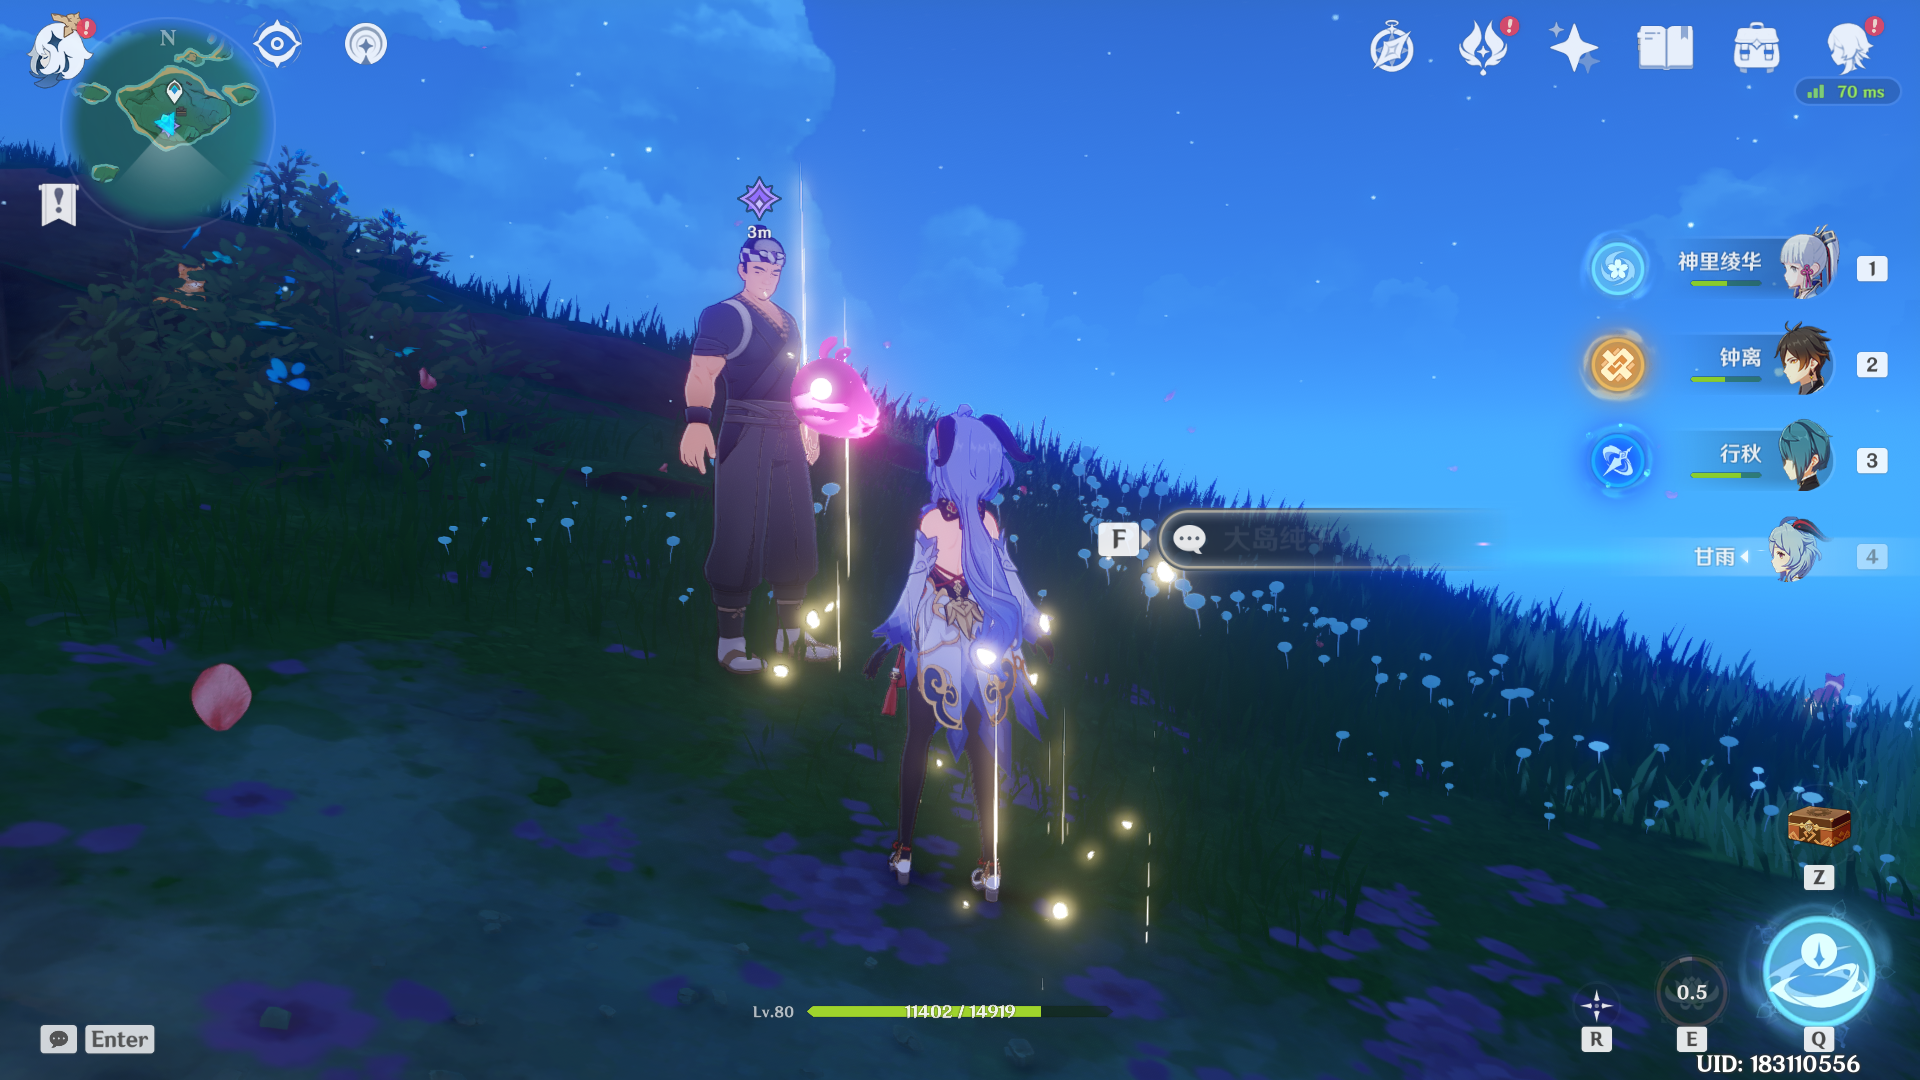character: (800, 382, 1087, 934)
